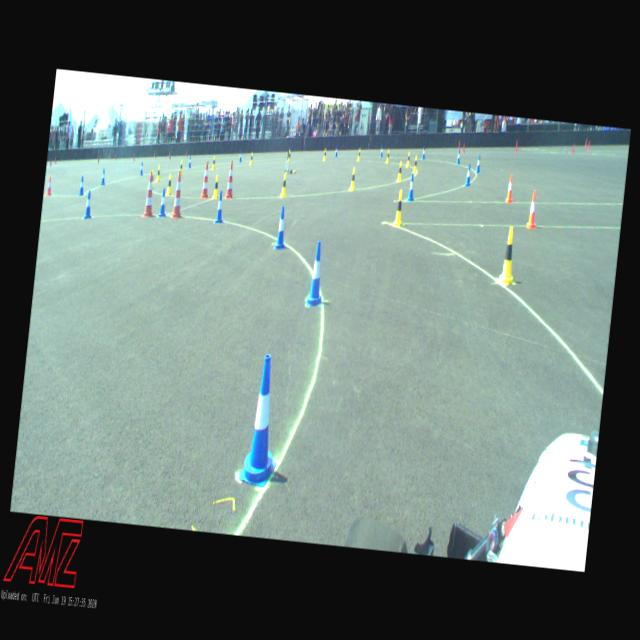blue_cone: (238, 352, 287, 487), (306, 240, 328, 307), (273, 206, 288, 249), (214, 190, 226, 223), (158, 188, 168, 216), (84, 190, 94, 218), (406, 172, 415, 200), (464, 163, 472, 186), (78, 176, 85, 195), (476, 154, 482, 172), (100, 168, 106, 184), (420, 146, 426, 159), (456, 149, 461, 164), (140, 162, 144, 174), (334, 144, 338, 156), (238, 150, 242, 162), (188, 155, 192, 167), (380, 145, 383, 156)
large_orange_cone: (170, 170, 187, 218), (141, 170, 157, 218), (224, 159, 237, 199), (200, 161, 212, 198)
orange_cone: (526, 190, 538, 228), (505, 174, 514, 202), (46, 177, 52, 194)
unknown_cone: (514, 142, 518, 152), (572, 143, 575, 154), (462, 142, 465, 152), (587, 141, 590, 150), (515, 139, 518, 148), (185, 148, 188, 156), (458, 139, 460, 150), (585, 138, 587, 148), (153, 149, 155, 157), (168, 152, 170, 159)
yellow_cone: (498, 226, 518, 285), (392, 190, 404, 226), (280, 172, 288, 196), (212, 175, 220, 198), (348, 167, 356, 190), (165, 172, 172, 195), (412, 155, 418, 173), (155, 164, 161, 182), (397, 160, 402, 180), (150, 170, 155, 188), (356, 148, 361, 161), (322, 148, 327, 160), (406, 152, 410, 166), (179, 160, 183, 174), (385, 148, 389, 162), (249, 152, 253, 165), (212, 156, 216, 169), (288, 150, 290, 161)
